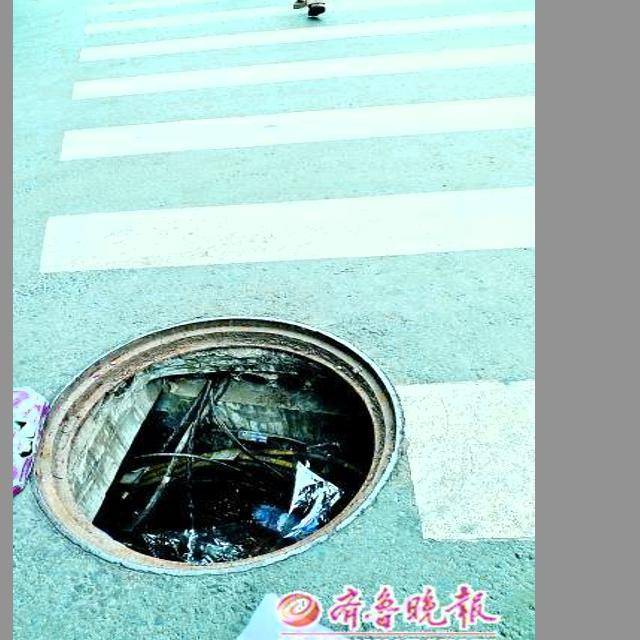lose: (38, 305, 409, 574)
